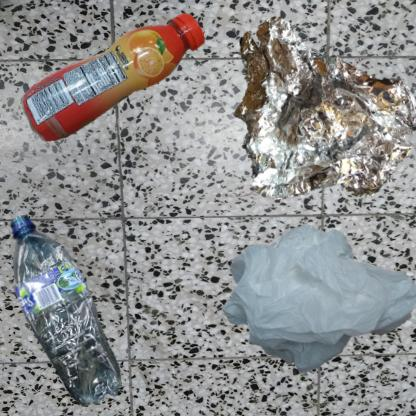aluminio: (213, 10, 416, 227)
bolsa: (213, 213, 416, 396)
botella: (10, 10, 243, 161), (10, 213, 123, 409)
